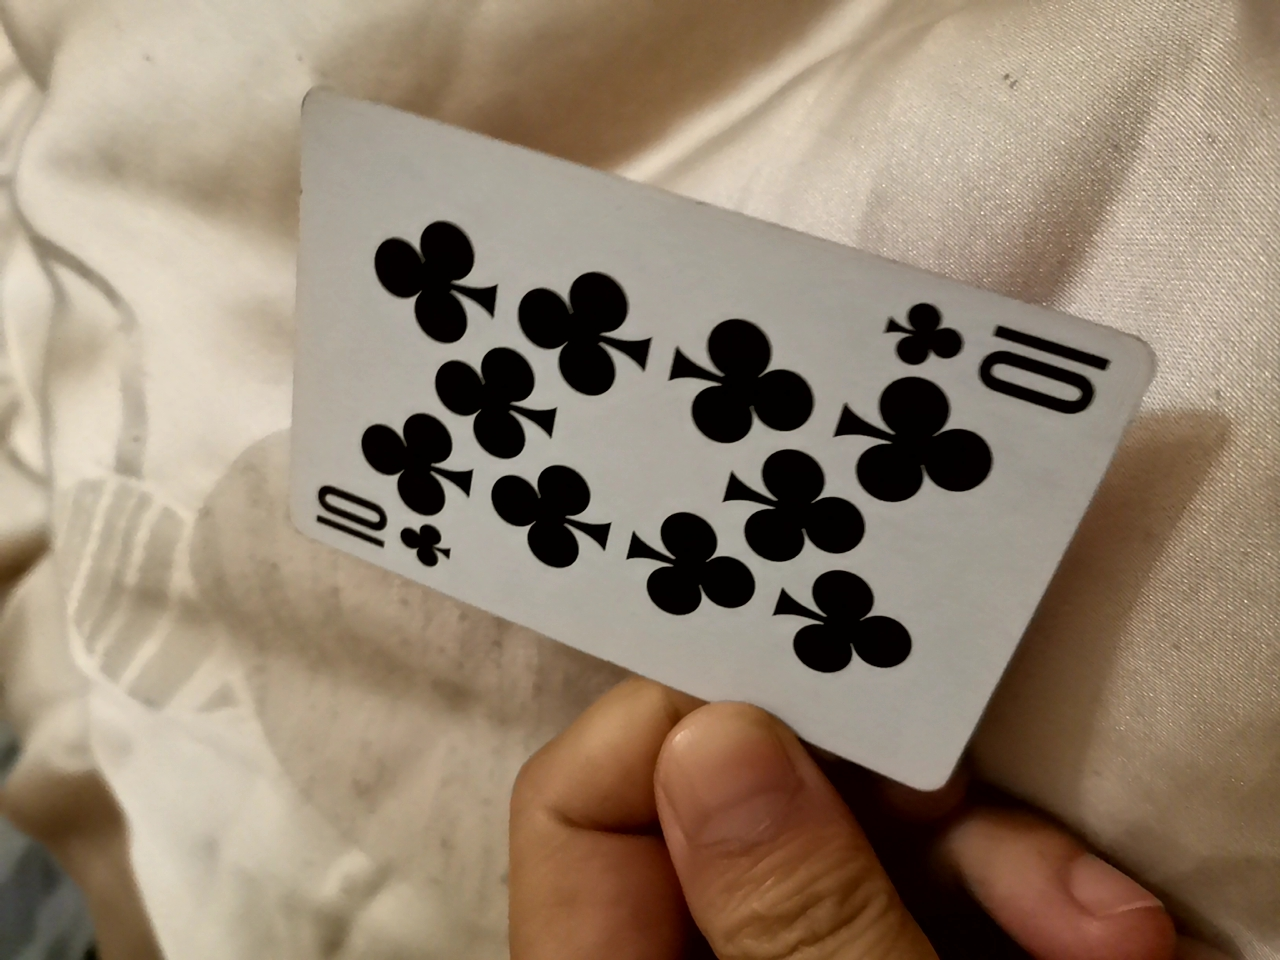mh 10: (264, 134, 1116, 817)
